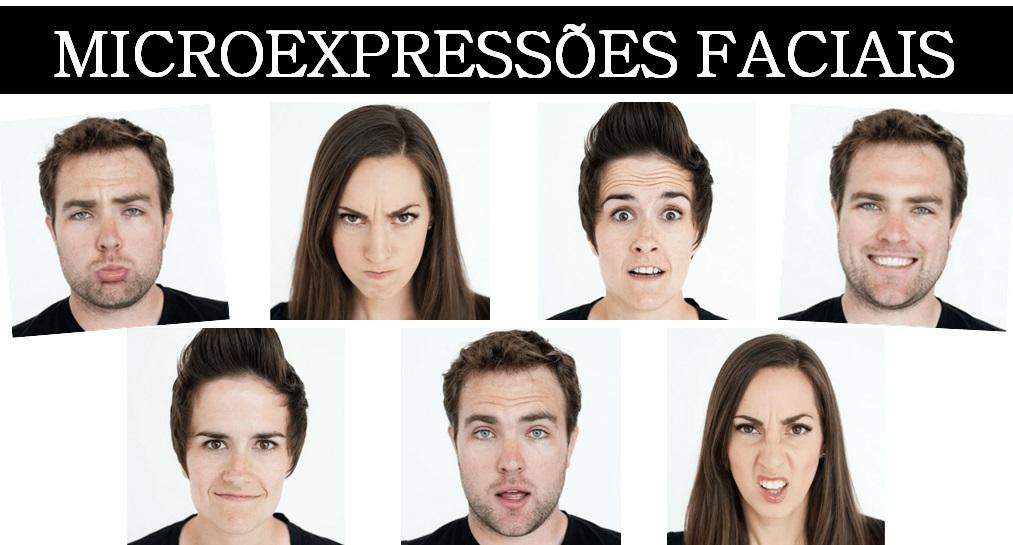feliz: (175, 367, 297, 537), (836, 139, 955, 310)
raiva: (324, 149, 438, 305)
surpreso: (453, 365, 574, 538), (592, 151, 701, 313)
triste: (52, 148, 165, 309)
